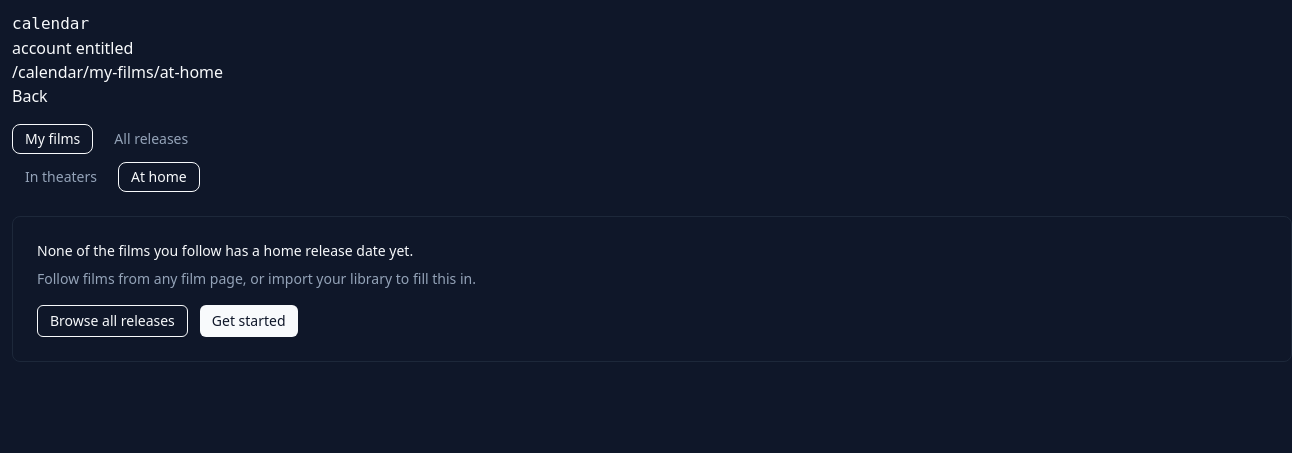
Test: calendar view — every view is an address (NEU-1544) › sends Browse all releases to the same kind under All releases
This screenshot has width=1292, height=453.
Expected: the text "None of the films you follow has a home release date yet." is shown, [37, 241, 413, 260]
Click the link "Browse all releases".
click(112, 321)  # box [37, 305, 188, 337]
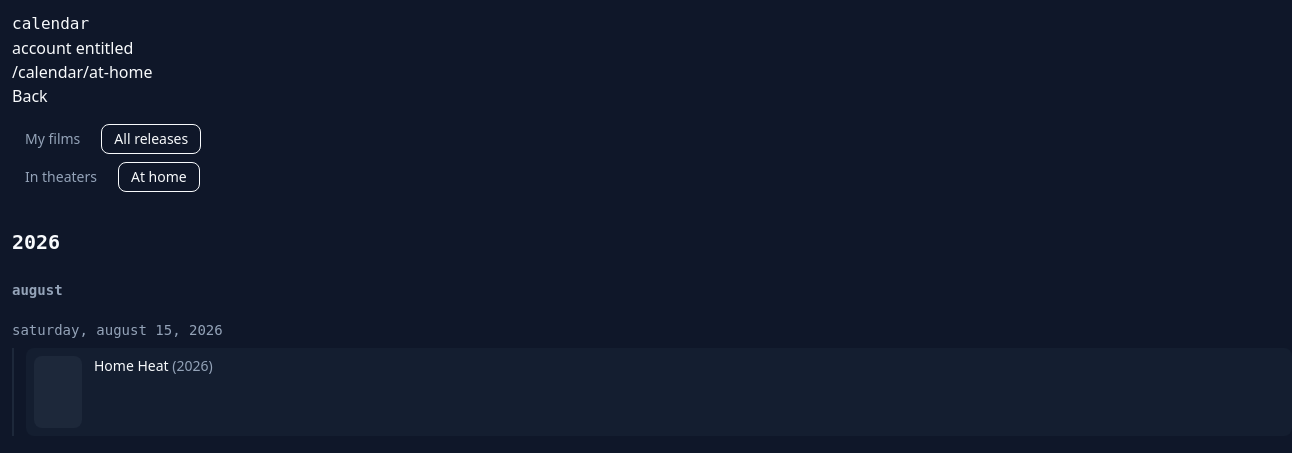
Expected: the text with test id "location" reads "/calendar/at-home", [12, 61, 152, 83]
Expected: the text "Home Heat" is shown, [94, 356, 169, 375]
